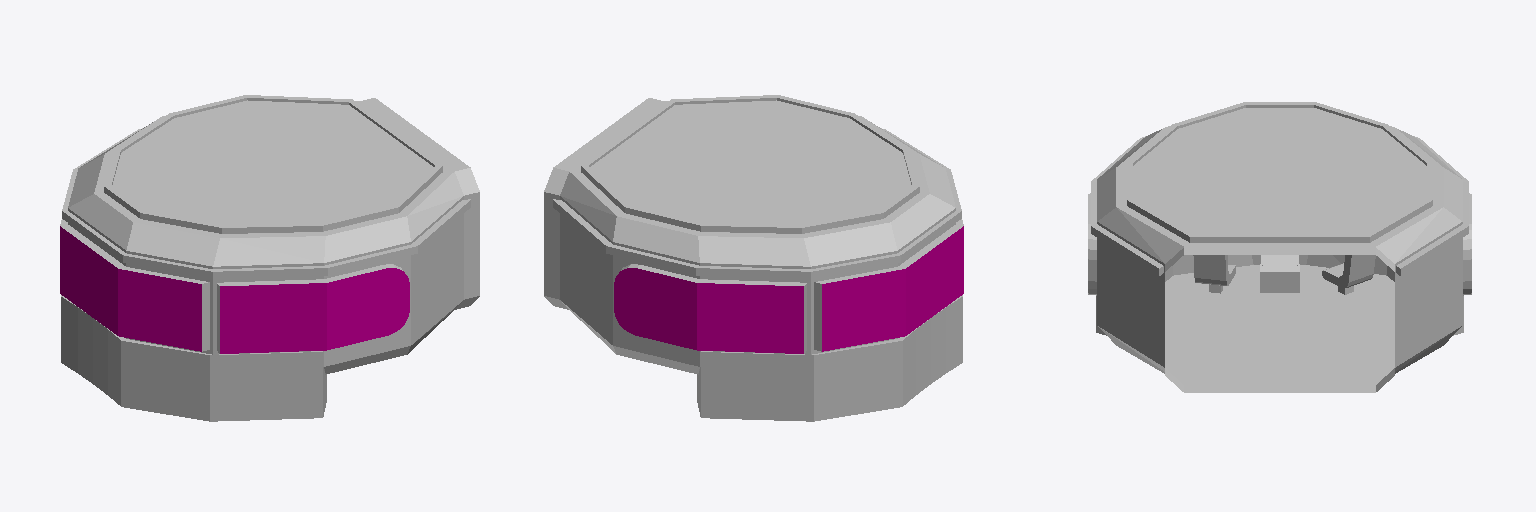
The model's file is Cockpit.obj.
3 views of the same model, side by side, from view 1: azimuth 30°, elevation 25°; view 2: azimuth 150°, elevation 25°; view 3: azimuth 270°, elevation 25° (orthographic).
Visible parts, largest first — view 1: Corridor_Corner.002_Cube.042; view 2: Corridor_Corner.002_Cube.042; view 3: Corridor_Corner.002_Cube.042.
Part boxes in pixels (x1,y1,x2,y2): Corridor_Corner.002_Cube.042: (60, 95, 479, 421); Corridor_Corner.002_Cube.042: (544, 95, 963, 421); Corridor_Corner.002_Cube.042: (1088, 102, 1471, 392).
Size of the model in its own units: 10.08 by 5.12 by 10.03.